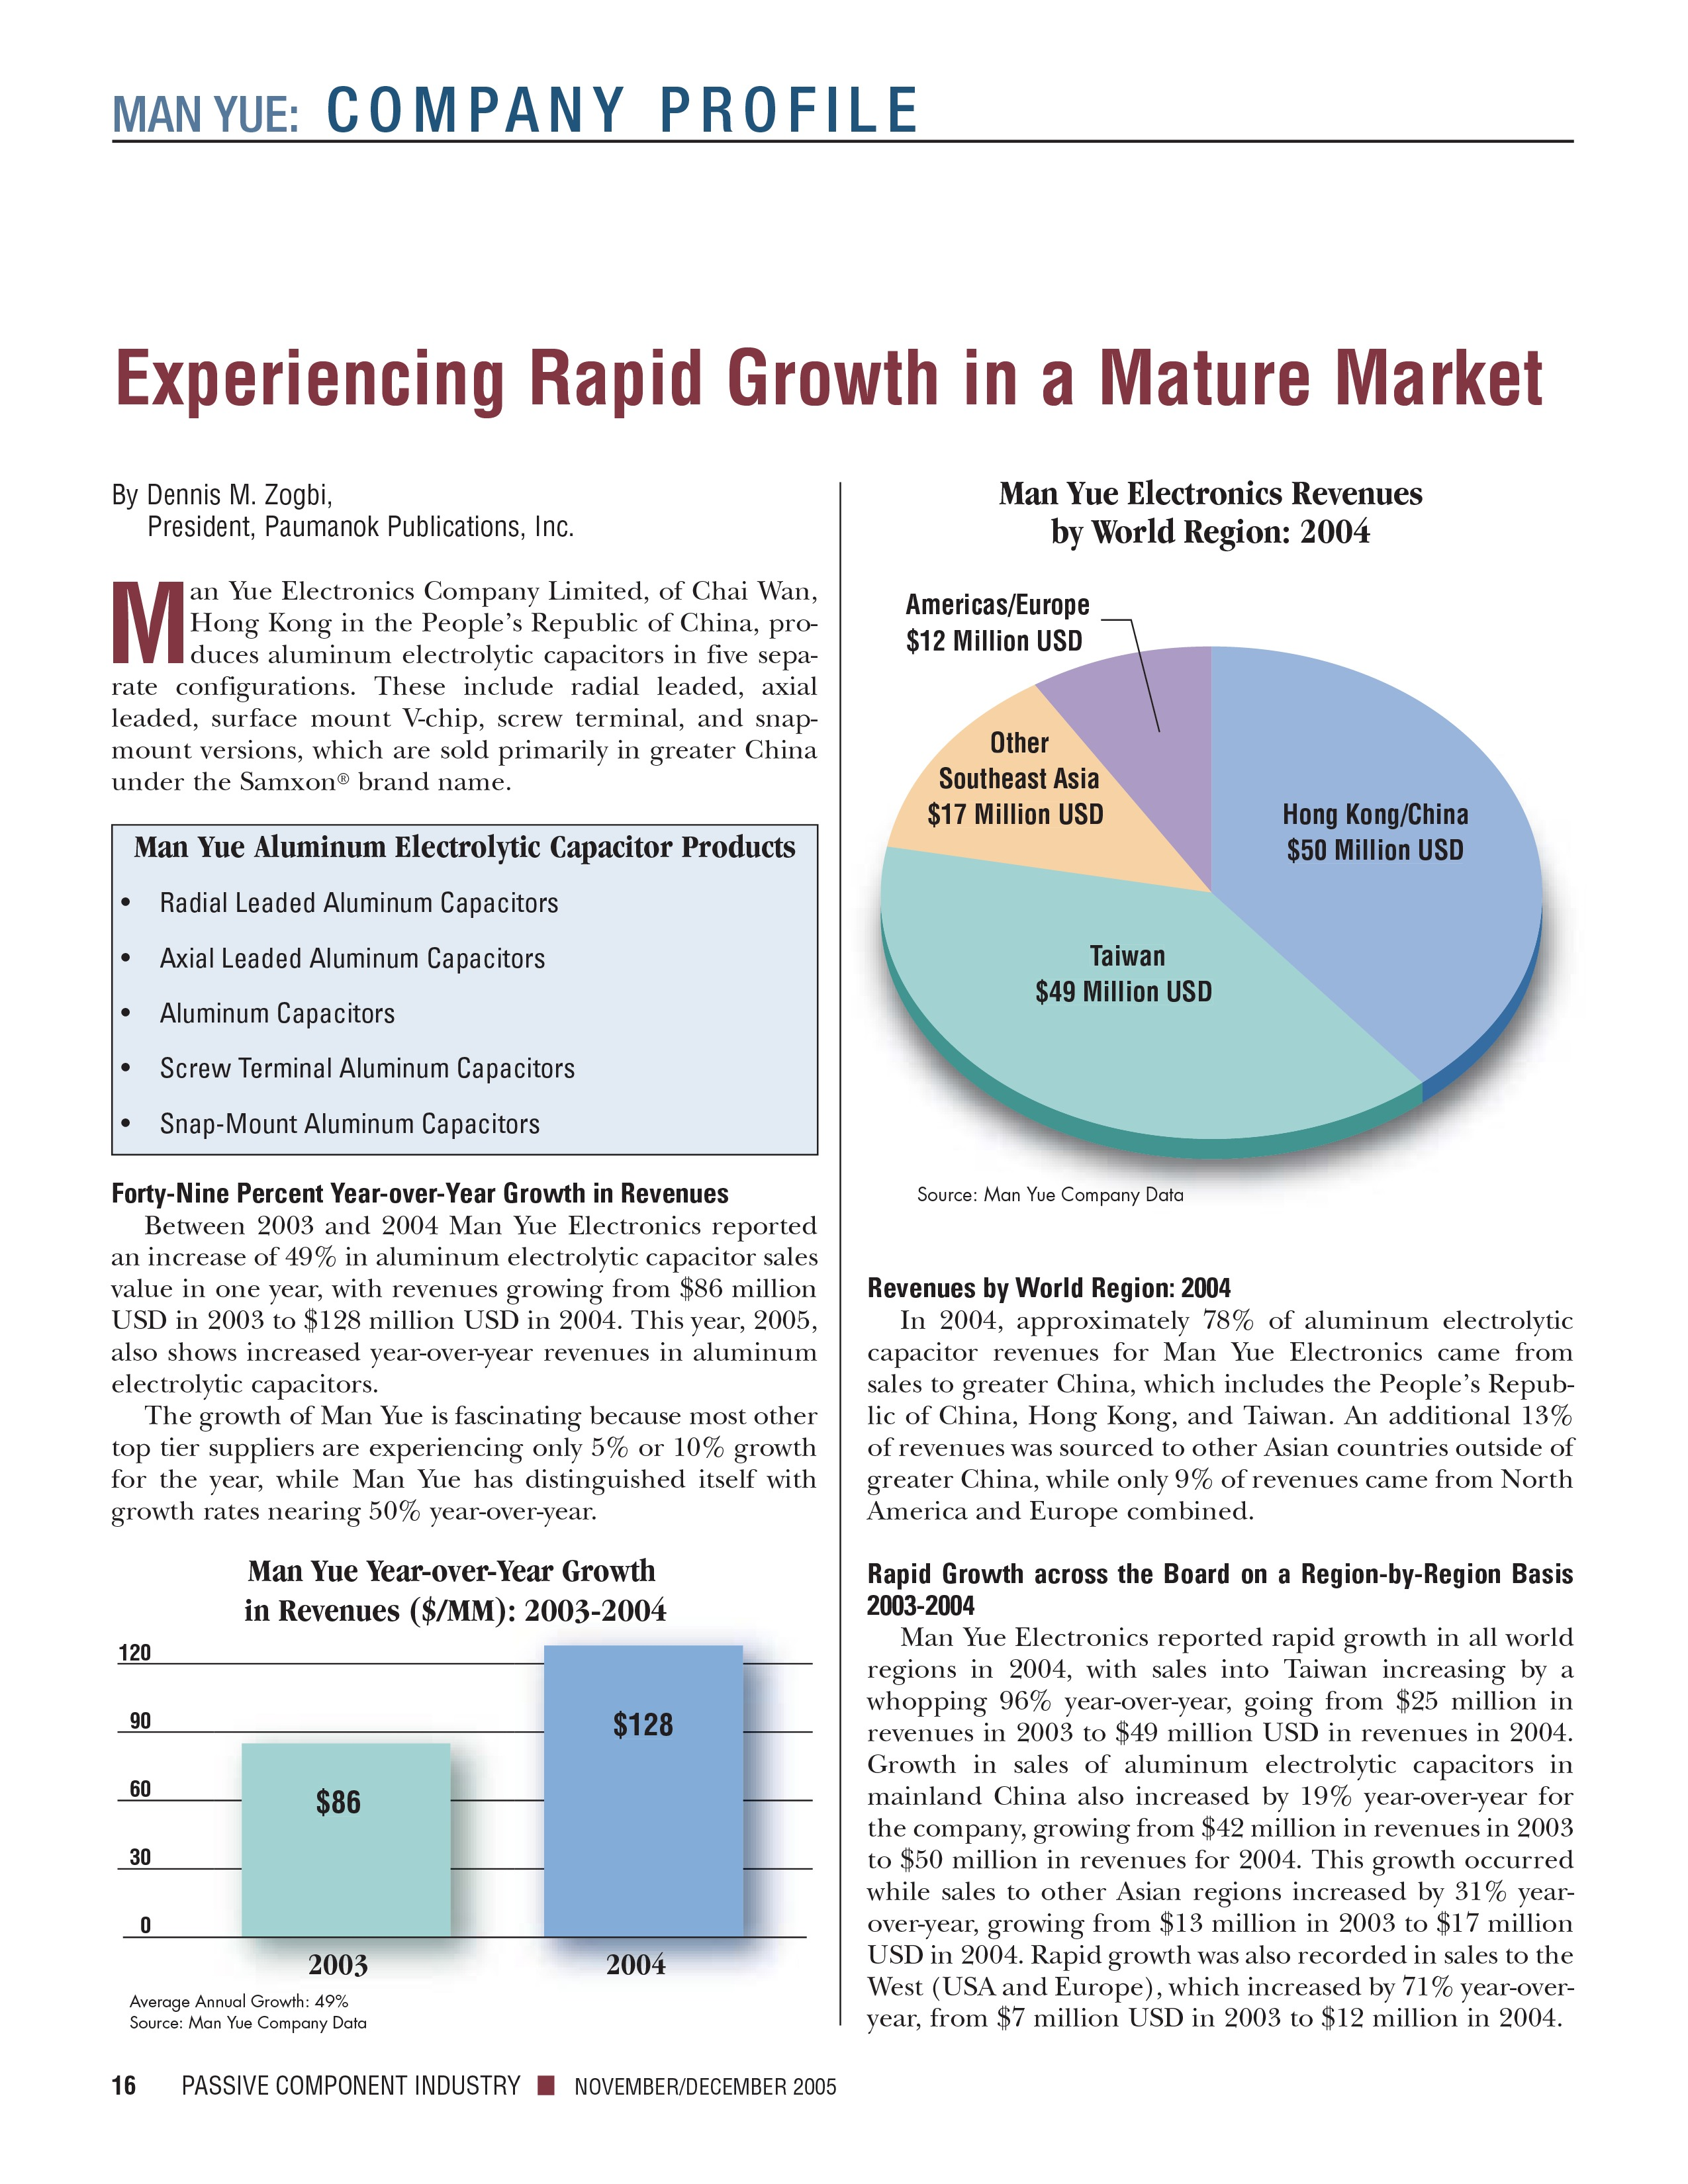caption: (982, 466, 1457, 548), (218, 1546, 690, 1615)
figure: (879, 573, 1569, 1182), (106, 1652, 837, 2019)
list: (110, 888, 578, 1143)
section: (110, 333, 1550, 425), (862, 1556, 1573, 1626), (106, 470, 596, 551), (115, 819, 807, 872), (103, 1170, 746, 1216), (849, 1262, 1246, 1305)
text: (862, 1642, 1592, 2039), (103, 562, 826, 807), (862, 1305, 1589, 1521), (96, 1213, 849, 1392), (96, 1415, 819, 1539)
